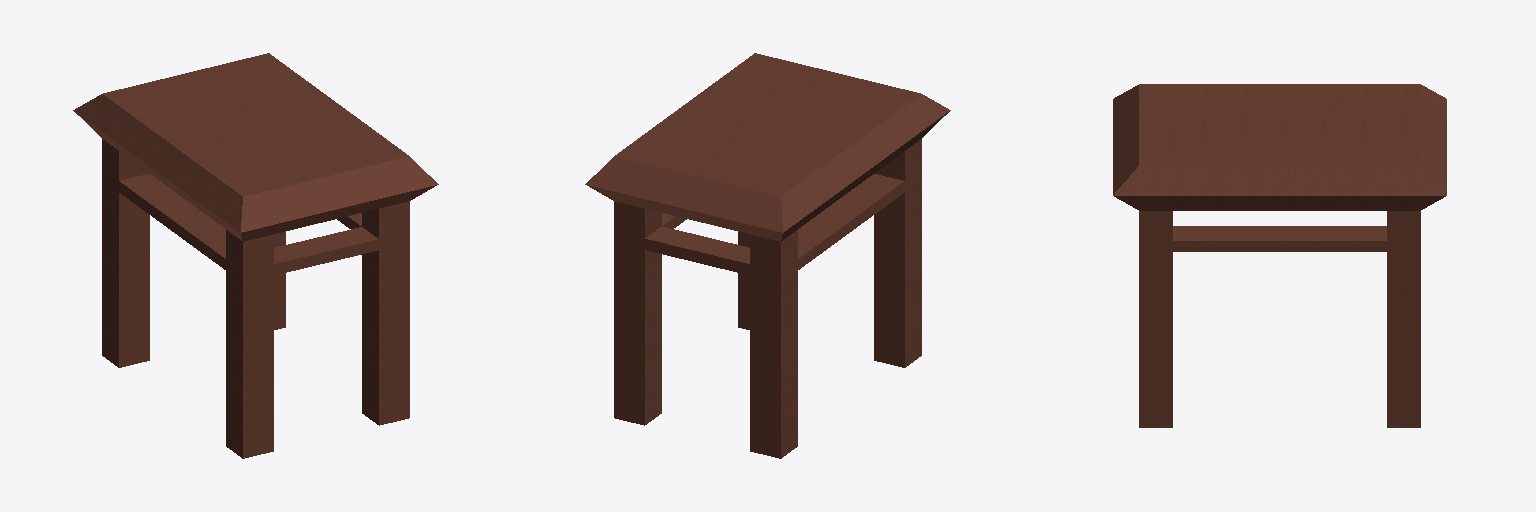
3 renders of one model, left to right at view 1: azimuth 30°, elevation 25°; view 2: azimuth 150°, elevation 25°; view 3: azimuth 270°, elevation 25°, orthographic.
Parts seen in each view (by area): view 1: Cube.001; view 2: Cube.001; view 3: Cube.001.
Boxes of the visible parts, x1,y1,x2,y2 form: Cube.001: [73, 53, 438, 458]; Cube.001: [585, 53, 950, 458]; Cube.001: [1113, 84, 1446, 427].
Bounding box in the file's own units: 42.59 × 53.84 × 62.36.
Materials: 1 (1 with a texture image).